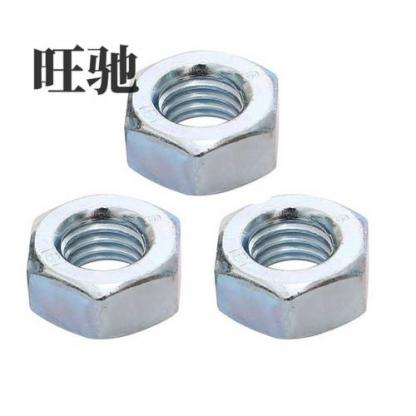FOD: (21, 191, 185, 343), (213, 189, 373, 340), (122, 46, 281, 196)
